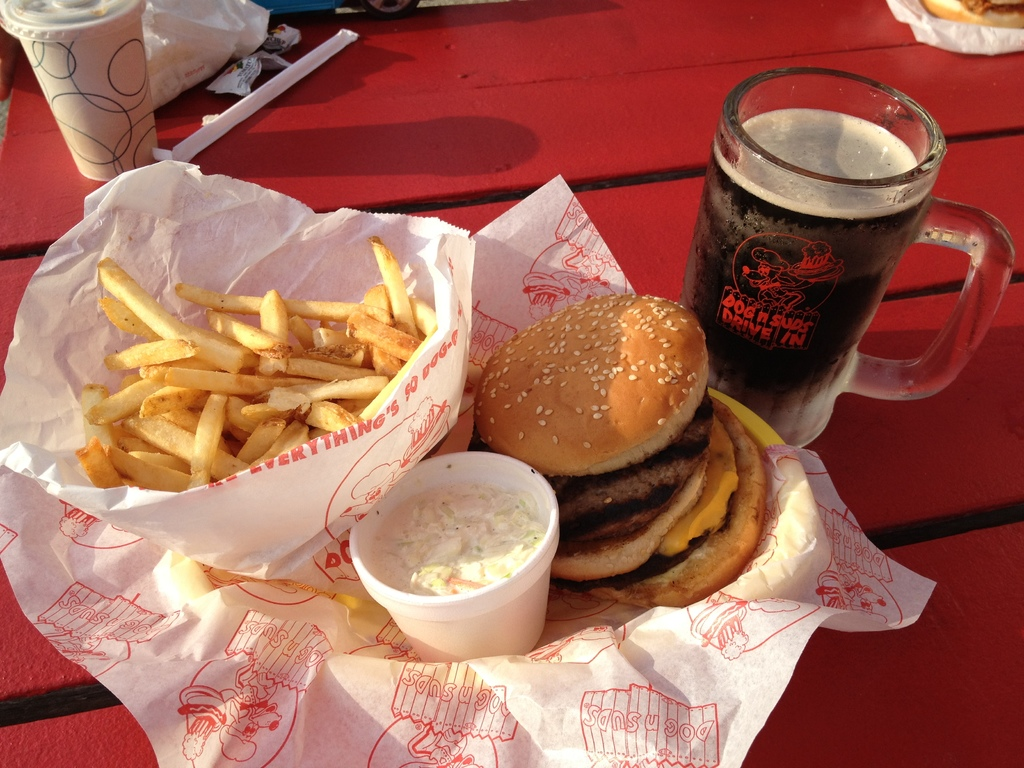French fries: (64, 249, 459, 492)
